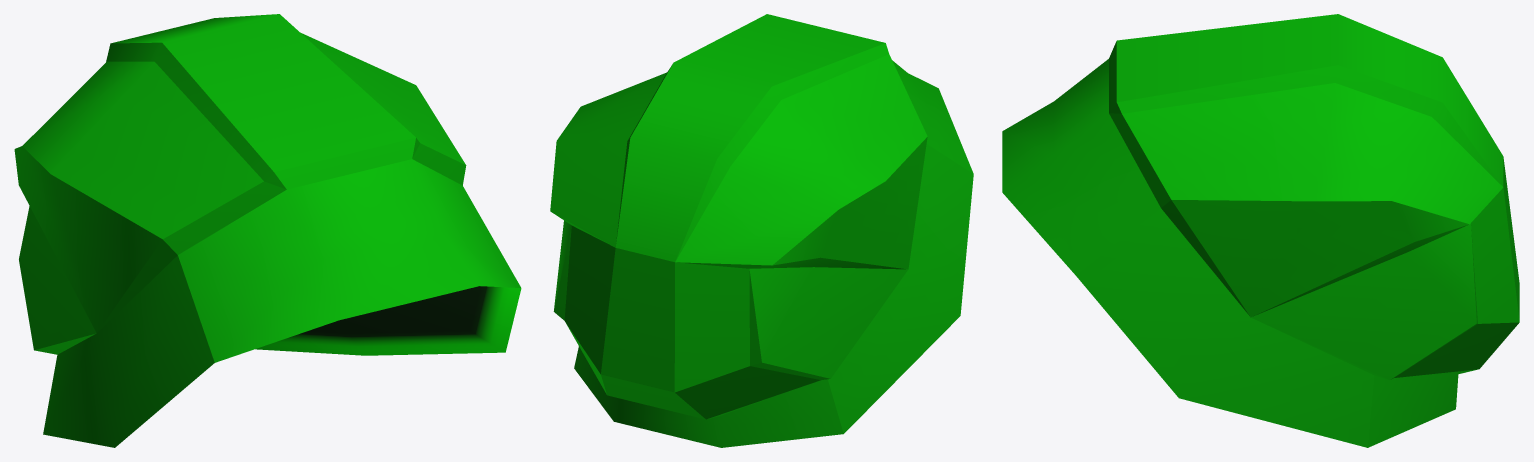
Rendered from Beanie_F.fbx.
The picture shows the model from 3 angles, left to right: view 1: azimuth 30°, elevation 25°; view 2: azimuth 150°, elevation 25°; view 3: azimuth 270°, elevation 25°; orthographic projection. The views are drawn at different scales.
Parts seen in each view (by area): view 1: Beanie_F; view 2: Beanie_F; view 3: Beanie_F.
Boxes of the visible parts, bbox=[...] form: Beanie_F: bbox=[14, 14, 521, 447]; Beanie_F: bbox=[550, 14, 973, 447]; Beanie_F: bbox=[1002, 14, 1519, 447].
Bounding box in the file's own units: 30.55 × 28.61 × 39.26.
